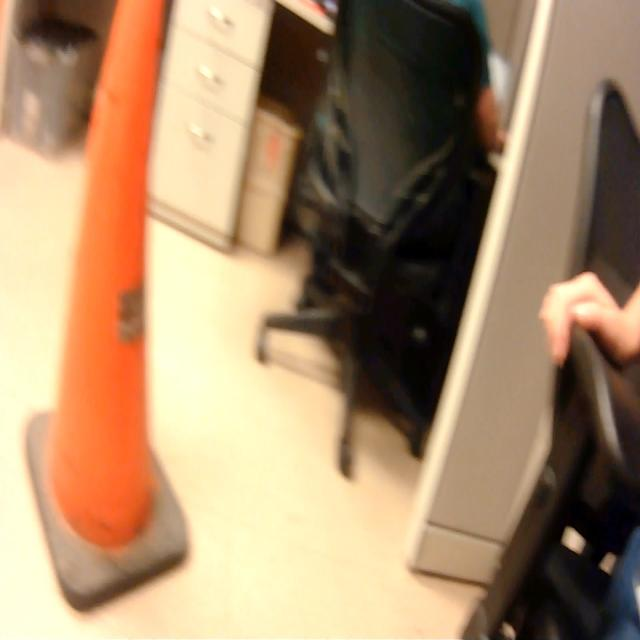traffic cone: (19, 2, 198, 617)
